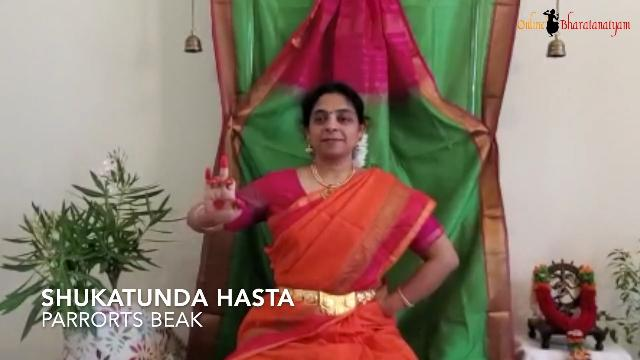shuktund: (182, 142, 256, 243)
